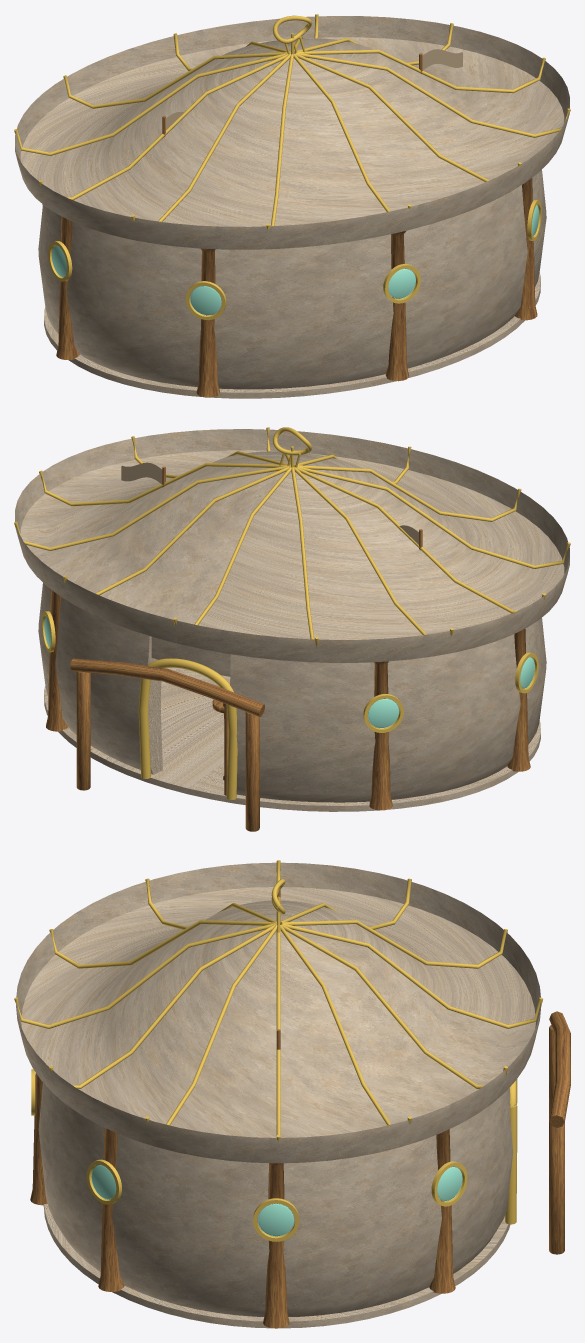
Rendered from 03_Posada_Oval.obj.
The picture shows the model from 3 angles, top to bottom: view 1: azimuth 30°, elevation 25°; view 2: azimuth 150°, elevation 25°; view 3: azimuth 270°, elevation 25°; orthographic projection. The views are drawn at different scales.
Parts seen in each view (by area): view 1: Cubierta_desmontable, Cuerpo_abombado_con_interior, Pilares_y_oculos, Suelo, Arquitectura_del_bioma, Remate_elemental; view 2: Cubierta_desmontable, Cuerpo_abombado_con_interior, Suelo, Pilares_y_oculos, Porche_curvo, Entrada_arqueada, Dintel_curvo, Arquitectura_del_bioma, Remate_elemental; view 3: Cubierta_desmontable, Cuerpo_abombado_con_interior, Pilares_y_oculos, Suelo, Porche_curvo, Entrada_arqueada.
Boxes of the visible parts, bbox=[...] form: Cubierta_desmontable: bbox=[14, 14, 570, 249]; Cuerpo_abombado_con_interior: bbox=[38, 169, 546, 389]; Pilares_y_oculos: bbox=[42, 178, 541, 397]; Suelo: bbox=[44, 273, 540, 398]; Arquitectura_del_bioma: bbox=[162, 49, 462, 137]; Remate_elemental: bbox=[272, 15, 312, 54]; Cubierta_desmontable: bbox=[14, 427, 570, 662]; Cuerpo_abombado_con_interior: bbox=[38, 583, 546, 802]; Suelo: bbox=[44, 667, 540, 811]; Pilares_y_oculos: bbox=[42, 589, 538, 810]; Porche_curvo: bbox=[70, 658, 264, 831]; Entrada_arqueada: bbox=[138, 658, 237, 799]; Dintel_curvo: bbox=[151, 637, 230, 676]; Arquitectura_del_bioma: bbox=[121, 462, 422, 550]; Remate_elemental: bbox=[272, 427, 312, 467]; Cubierta_desmontable: bbox=[14, 860, 542, 1163]; Cuerpo_abombado_con_interior: bbox=[38, 1082, 513, 1316]; Pilares_y_oculos: bbox=[30, 1069, 467, 1328]; Suelo: bbox=[43, 1204, 510, 1328]; Porche_curvo: bbox=[549, 1011, 570, 1254]; Entrada_arqueada: bbox=[505, 1079, 517, 1224].
Bounding box in the file's own units: 10.79 × 5.86 × 9.16.
